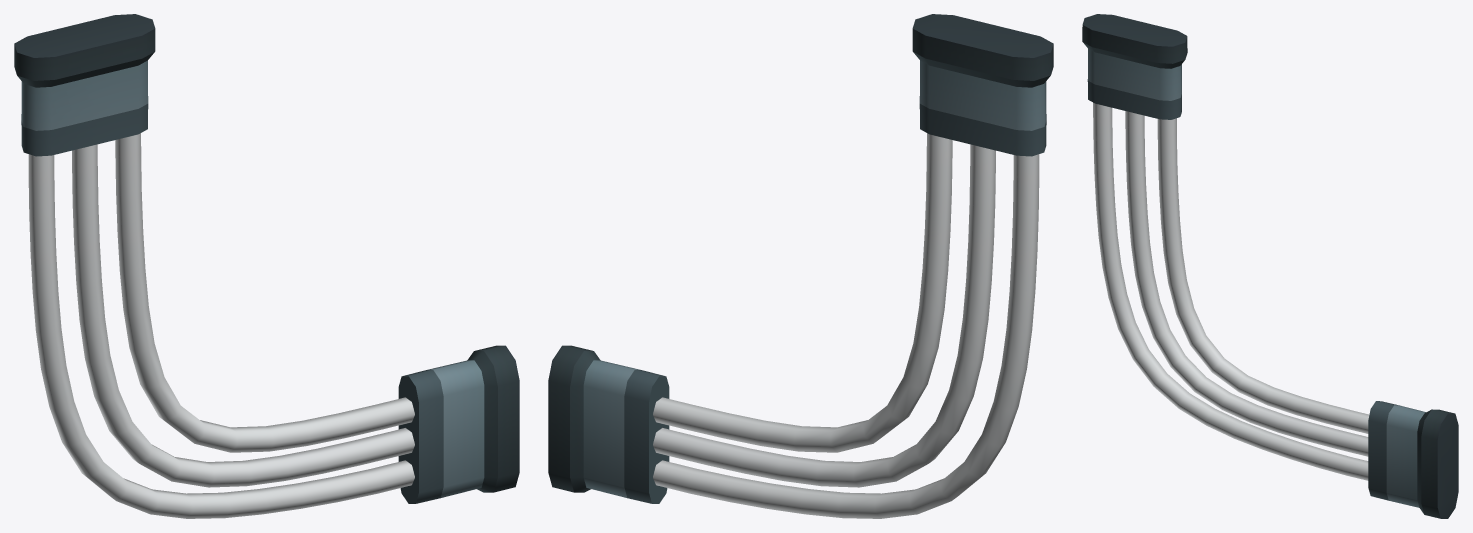
File: Cable_type_B_005.glb
3 views of the same model, side by side, from view 1: azimuth 30°, elevation 25°; view 2: azimuth 150°, elevation 25°; view 3: azimuth 330°, elevation 25° (orthographic). The views are drawn at different scales.
Visible parts, largest first — view 1: Cable_type_B_005; view 2: Cable_type_B_005; view 3: Cable_type_B_005.
Part boxes in pixels (bbox=[...]): Cable_type_B_005: bbox=[14, 14, 519, 518]; Cable_type_B_005: bbox=[548, 14, 1053, 518]; Cable_type_B_005: bbox=[1082, 14, 1458, 518].
Bounding box in the file's own units: 0.792 × 0.8577 × 0.0783.
1 material, 1 textured.
